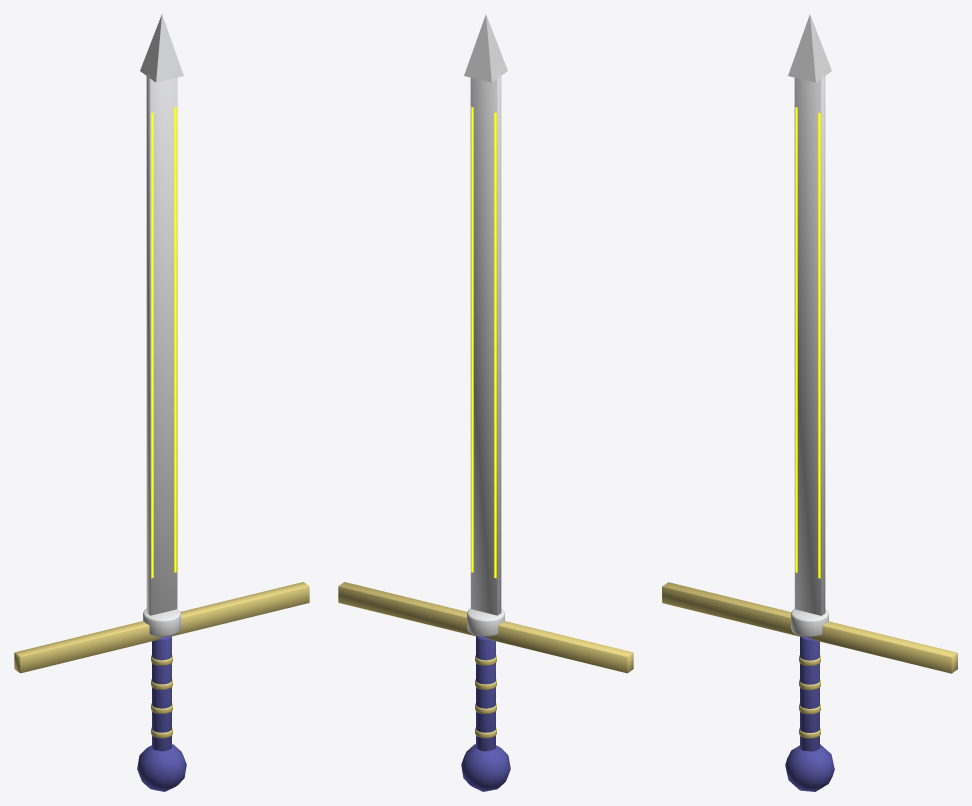
The model's file is greatsword-001.glb.
3 renders of one model, left to right at view 1: azimuth 30°, elevation 25°; view 2: azimuth 150°, elevation 25°; view 3: azimuth 330°, elevation 25°, orthographic.
Parts seen in each view (by area): view 1: weapon_bladed; view 2: weapon_bladed; view 3: weapon_bladed.
Part boxes in pixels (left/top/right/bottom): weapon_bladed: left=14, top=14, right=309, bottom=791; weapon_bladed: left=338, top=14, right=633, bottom=791; weapon_bladed: left=662, top=14, right=957, bottom=791.
Size of the model in its own units: 0.528 by 1.35 by 0.08.
